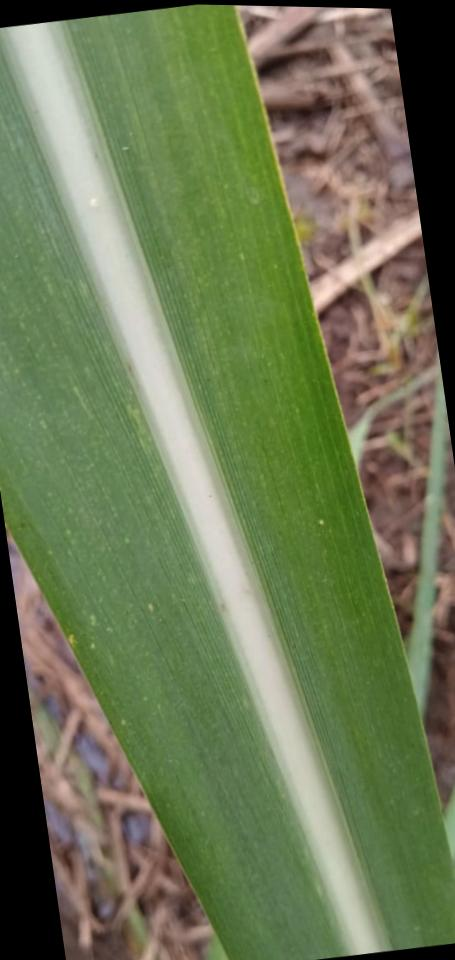Healthy: (0, 5, 455, 960)
